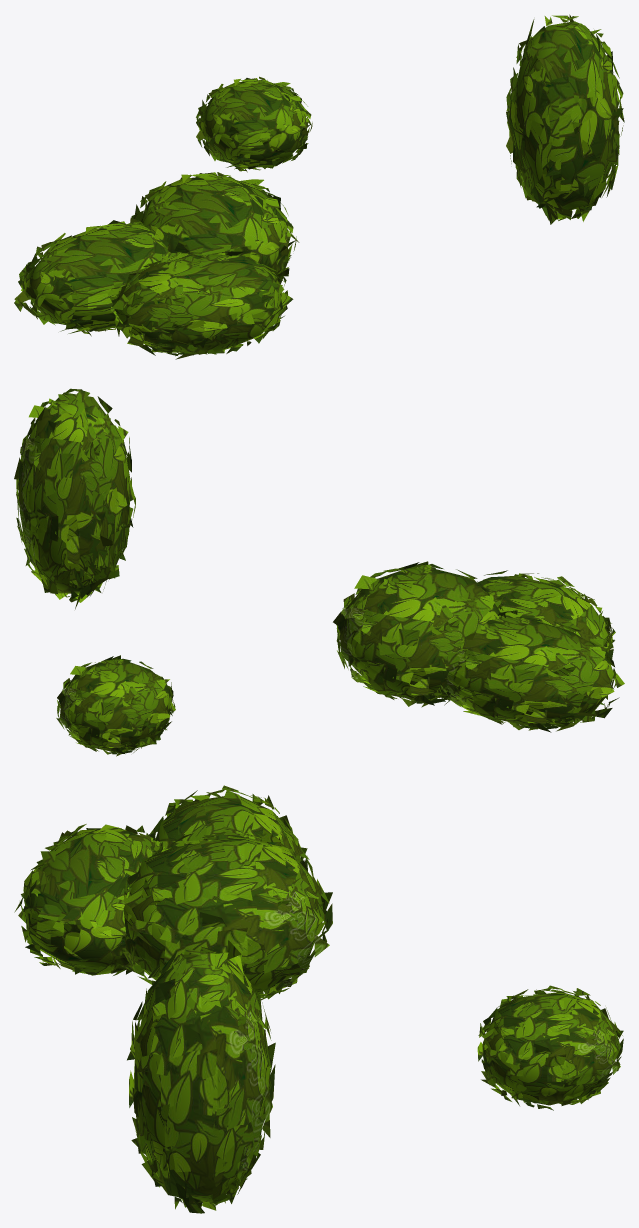
File: Arbusto.2_Textured.fbx
The picture shows the model from 3 angles, top to bottom: view 1: azimuth 30°, elevation 25°; view 2: azimuth 150°, elevation 25°; view 3: azimuth 270°, elevation 25°; orthographic projection. The views are drawn at different scales.
Visible parts, largest first — view 1: Bush.001, Bush.007, Bush.004, Bush.006, Bush; view 2: Bush.001, Bush.004, Bush.006, Bush, Bush.007; view 3: Bush.001, Bush.004, Bush.007, Bush, Bush.006.
Boxes of the visible parts, x1,y1,x2,y2 form: Bush.001: (506,14,624,224); Bush.007: (111,251,293,359); Bush.004: (130,172,299,284); Bush.006: (14,218,178,336); Bush: (196,76,312,172); Bush.001: (14,388,135,609); Bush.004: (333,561,505,707); Bush.006: (438,610,624,732); Bush: (56,655,175,756); Bush.007: (477,570,615,659); Bush.001: (127,940,275,1213); Bush.004: (120,826,332,1000); Bush.007: (14,824,161,975); Bush: (477,985,623,1110); Bush.006: (149,785,309,870).
Size of the model in its own units: 2051 by 674 by 1438.
2 materials, 2 textured.
